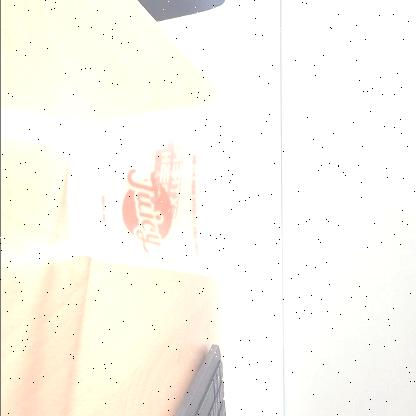Others: (67, 81, 261, 301)
